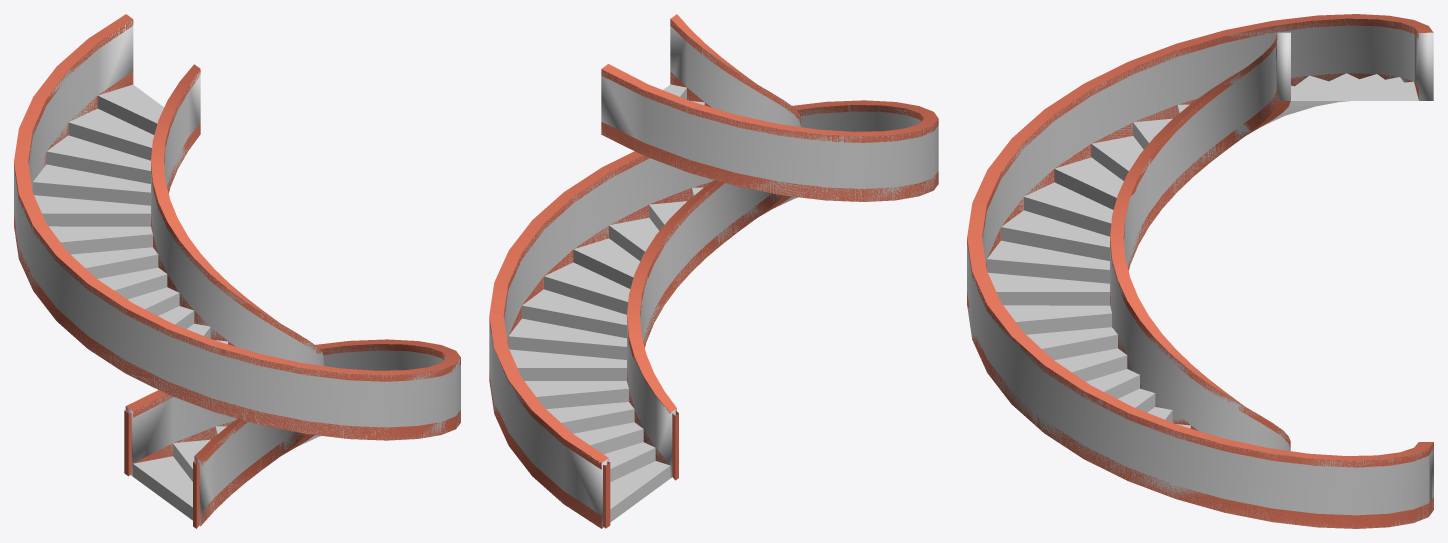
File: stairs_colimacon.fbx
The picture shows the model from 3 angles, left to right: view 1: azimuth 30°, elevation 25°; view 2: azimuth 150°, elevation 25°; view 3: azimuth 270°, elevation 25°; orthographic projection. The views are drawn at different scales.
Visible parts, largest first — view 1: stairs colimacon physic bordure, stairs colimacon bordure, stairs colimacon; view 2: stairs colimacon physic bordure, stairs colimacon bordure, stairs colimacon; view 3: stairs colimacon physic bordure, stairs colimacon bordure, stairs colimacon.
Part boxes in pixels (x1,y1,x2,y2): stairs colimacon physic bordure: (14,19,460,525); stairs colimacon bordure: (14,14,460,528); stairs colimacon: (33,84,320,520); stairs colimacon physic bordure: (489,20,938,528); stairs colimacon bordure: (489,14,938,528); stairs colimacon: (508,84,704,522); stairs colimacon physic bordure: (967,18,1433,528); stairs colimacon bordure: (967,14,1433,528); stairs colimacon: (987,73,1418,428).
Bounding box in the file's own units: 617 × 704 × 620.
